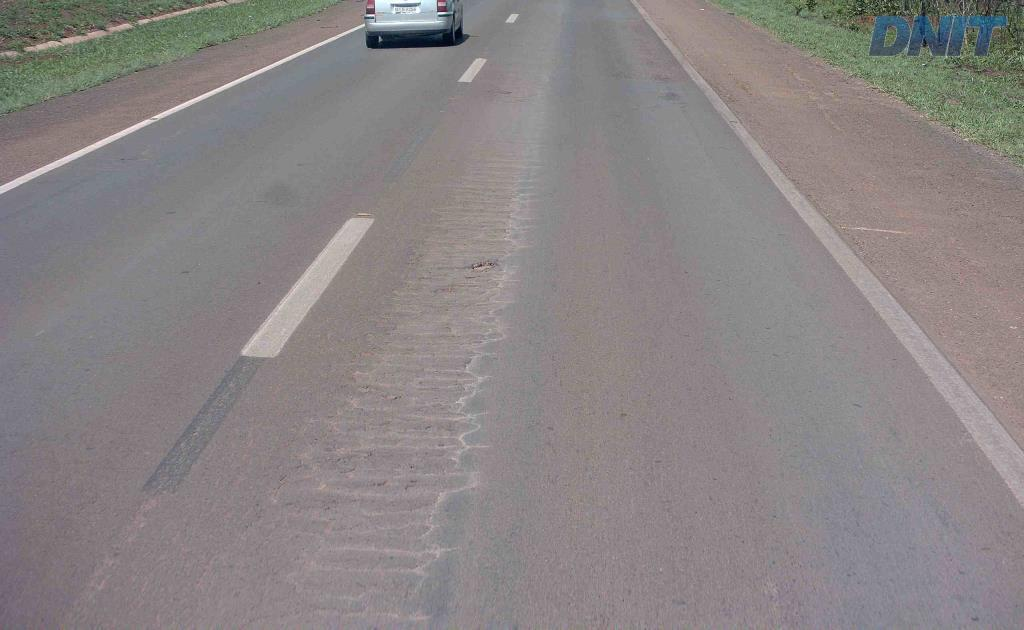pothole: (459, 256, 504, 278)
